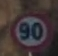limite 90: (10, 12, 51, 51)
